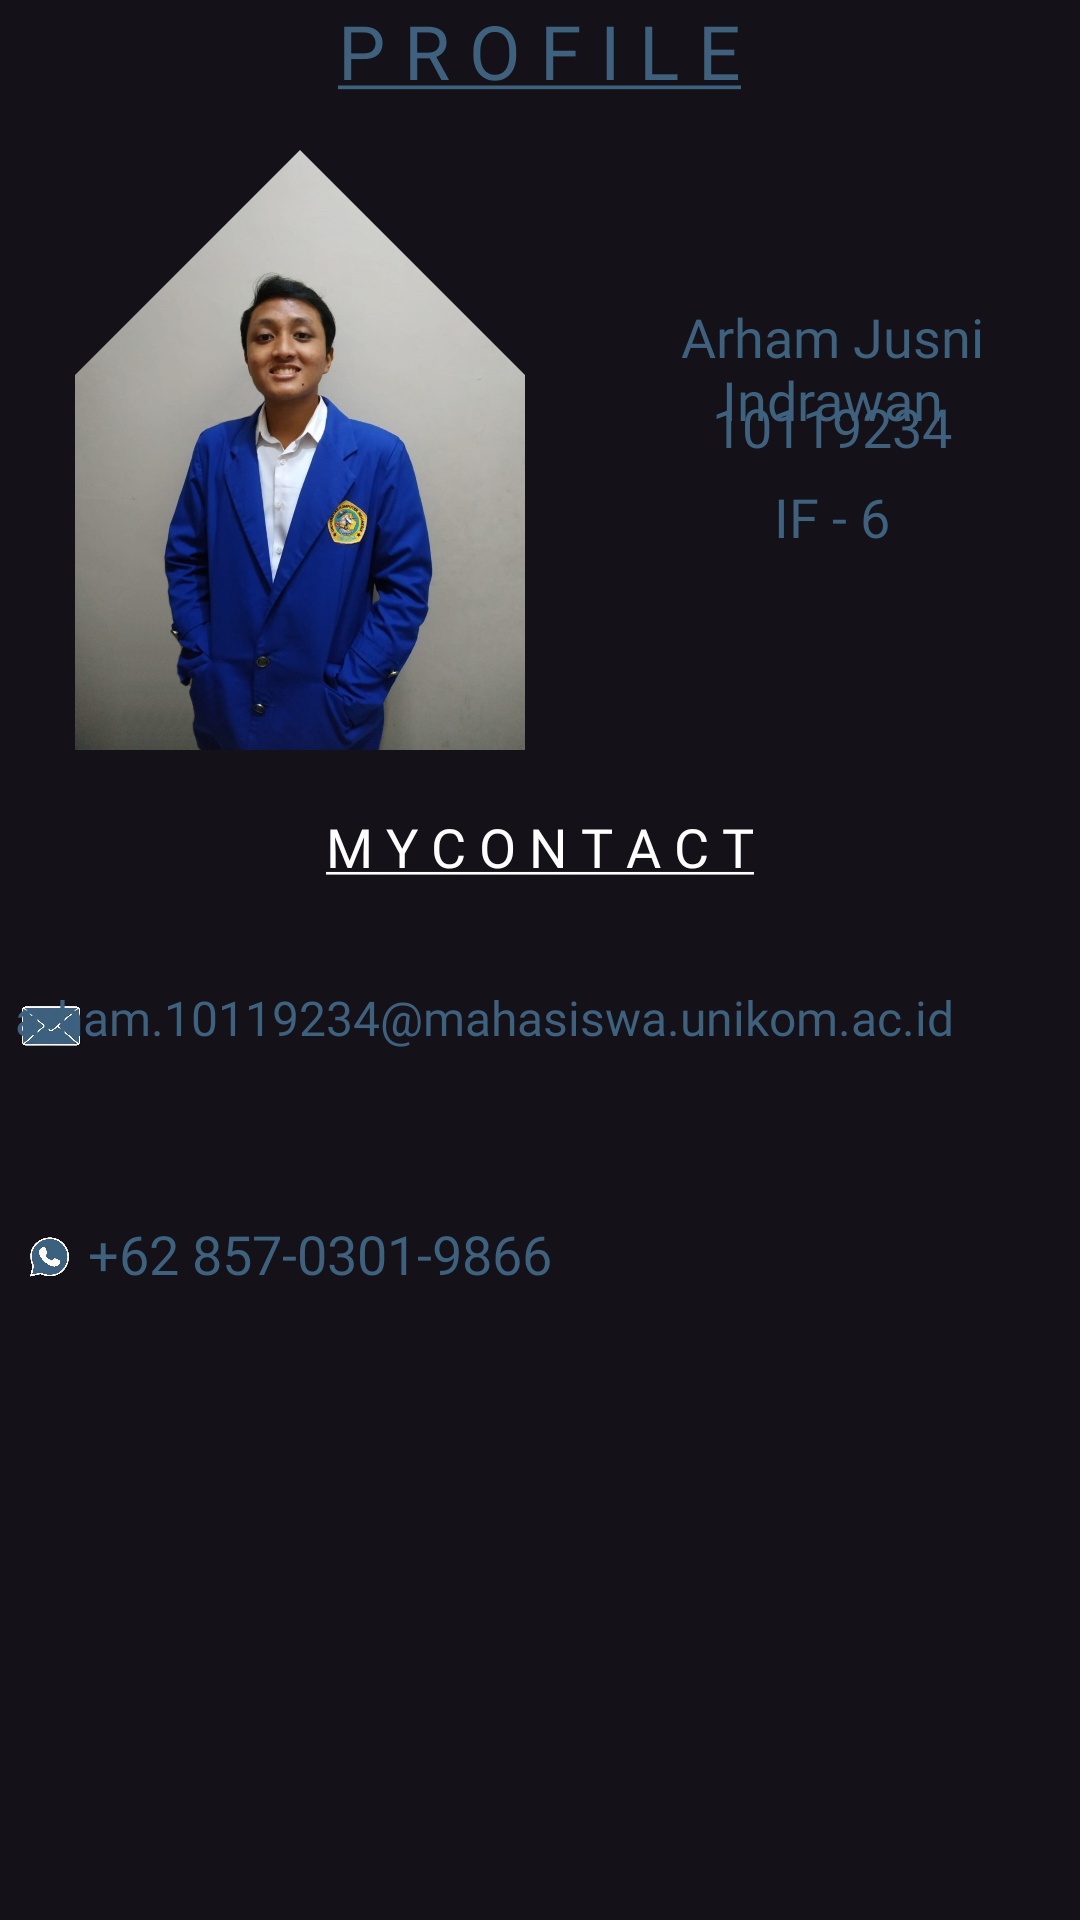

Screen size 1080px×1920px. Icon name, then its box in pixels as [x1=x1, y1=y1, x2=x2, y2=y2]:
email: [x1=17, y1=1000, x2=102, y2=1046]
